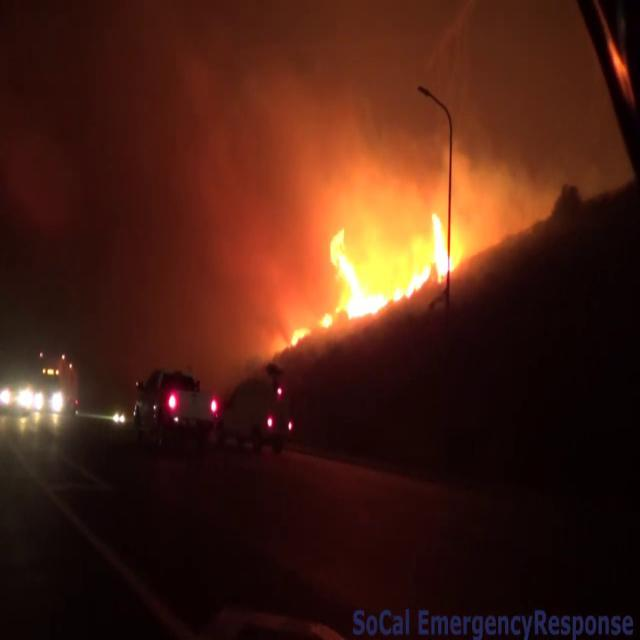Fire: (319, 186, 471, 328)
Smoke: (131, 0, 540, 341)
